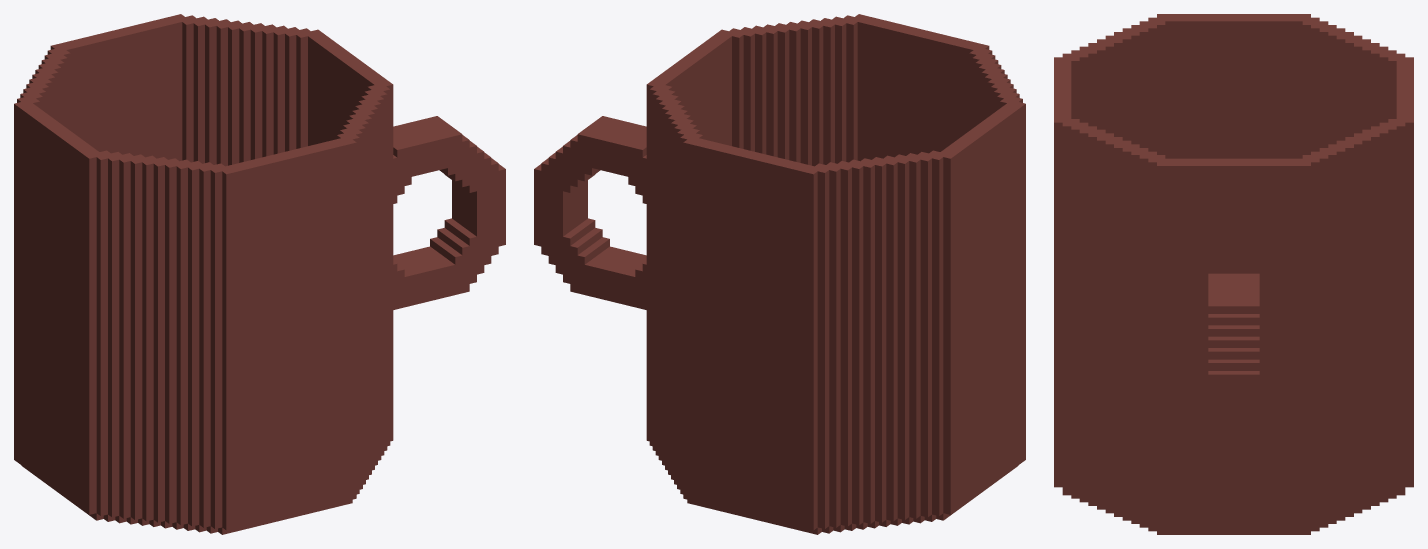
Rendered from ceramic_mug.glb.
3 renders of one model, left to right at view 1: azimuth 30°, elevation 25°; view 2: azimuth 150°, elevation 25°; view 3: azimuth 270°, elevation 25°, orthographic. The views are drawn at different scales.
Visible parts, largest first — view 1: ceramic_mug:compound; view 2: ceramic_mug:compound; view 3: ceramic_mug:compound.
Part boxes in pixels (left/top/right/bottom): ceramic_mug:compound: left=14, top=14, right=505, bottom=534; ceramic_mug:compound: left=534, top=14, right=1025, bottom=534; ceramic_mug:compound: left=1054, top=14, right=1413, bottom=534.
Size of the model in its own units: 0.122 by 0.096 by 0.084.
